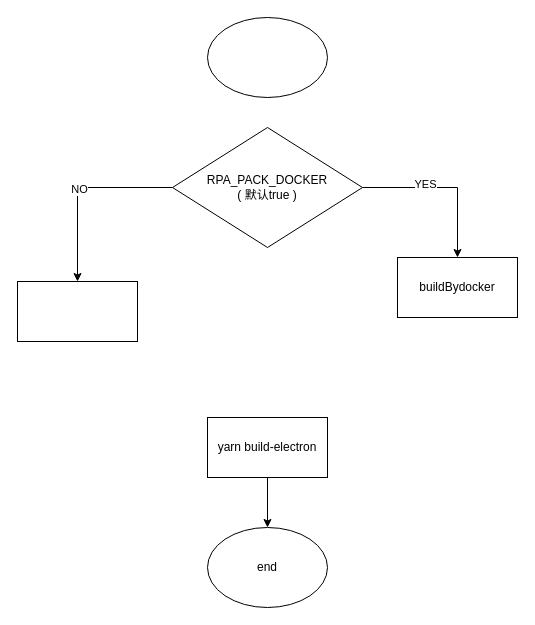
This 535x625 diagram has some shape labels left out. Here are the shapes that lost their labels. From the top down, the box of each, then its label:
(206, 16, 328, 98): start
(16, 280, 138, 342): buildByLocal
